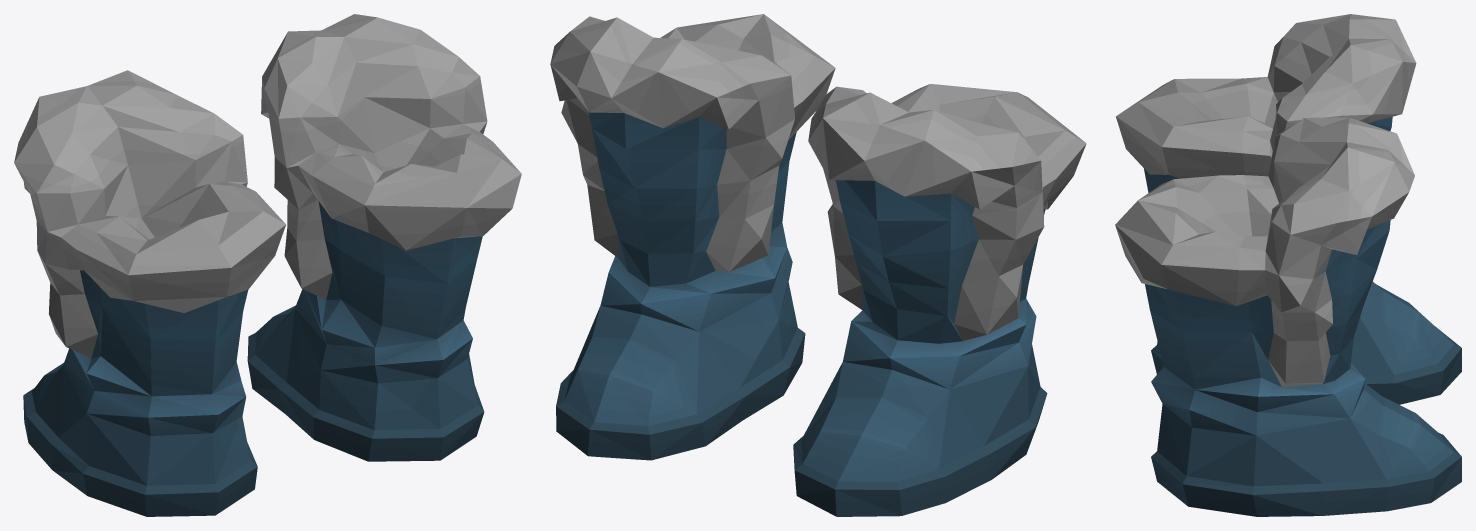
File: CharSkyKid_Feet_AP28FluffyBoots.glb
3 renders of one model, left to right at view 1: azimuth 30°, elevation 25°; view 2: azimuth 150°, elevation 25°; view 3: azimuth 270°, elevation 25°, orthographic. The views are drawn at different scales.
Visible parts, largest first — view 1: CharSkyKid_Feet_AP28FluffyBoots; view 2: CharSkyKid_Feet_AP28FluffyBoots; view 3: CharSkyKid_Feet_AP28FluffyBoots.
Part boxes in pixels (left/top/right/bottom): CharSkyKid_Feet_AP28FluffyBoots: left=14, top=14, right=521, bottom=516; CharSkyKid_Feet_AP28FluffyBoots: left=550, top=14, right=1086, bottom=516; CharSkyKid_Feet_AP28FluffyBoots: left=1115, top=14, right=1461, bottom=516.
Bounding box in the file's own units: 3.54 × 2.76 × 2.46.
1 material, 1 textured.
